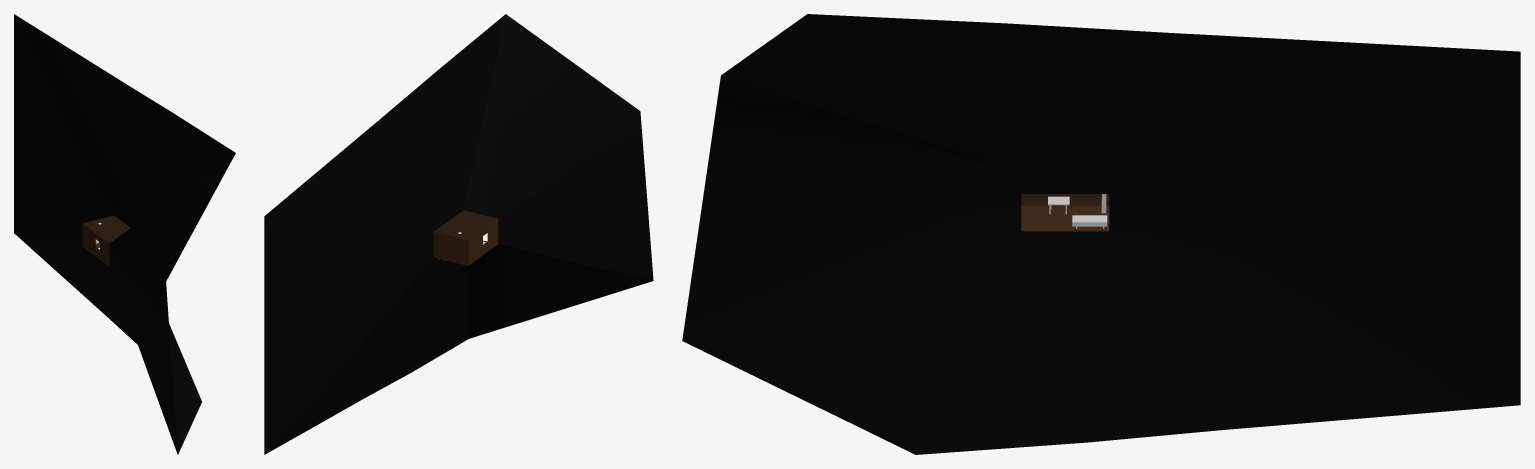
The model's file is inside_test.fbx.
3 renders of one model, left to right at view 1: azimuth 30°, elevation 25°; view 2: azimuth 150°, elevation 25°; view 3: azimuth 270°, elevation 25°, orthographic. The views are drawn at different scales.
Visible parts, largest first — view 1: polySurface3, polySurface2; view 2: polySurface3, polySurface2; view 3: polySurface2, polySurface3.
Part boxes in pixels (x1=…): polySurface3: x1=14, y1=14, x2=235, y2=453; polySurface2: x1=14, y1=153, x2=235, y2=454; polySurface3: x1=264, y1=14, x2=653, y2=454; polySurface2: x1=264, y1=216, x2=652, y2=454; polySurface2: x1=682, y1=14, x2=1520, y2=454; polySurface3: x1=721, y1=14, x2=1520, y2=75.
Bounding box in the file's own units: 38.23 × 103 × 178.
